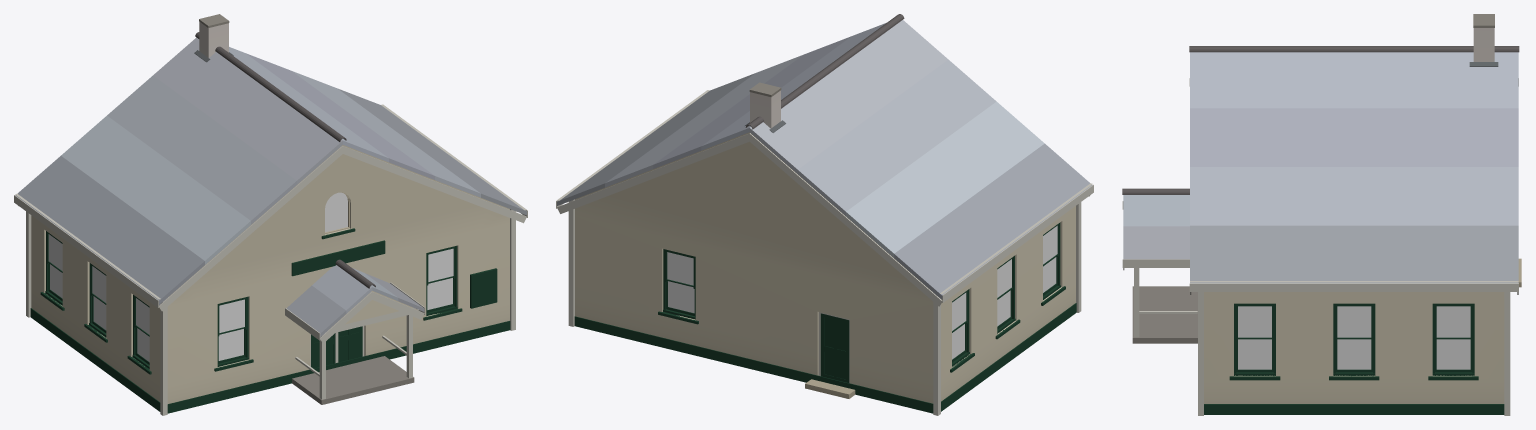
Rendered from town_village_hall_a_lod2.glb.
3 views of the same model, side by side, from view 1: azimuth 30°, elevation 25°; view 2: azimuth 150°, elevation 25°; view 3: azimuth 270°, elevation 25° (orthographic). The views are drawn at different scales.
Visible parts, largest first — view 1: body; view 2: body; view 3: body.
Part boxes in pixels (x1,y1,x2,y2): body: (14,14,527,415); body: (556,14,1093,415); body: (1122,14,1521,415).
Size of what is drawn, in the model's own units: 12.75 by 8.6 by 10.45.
